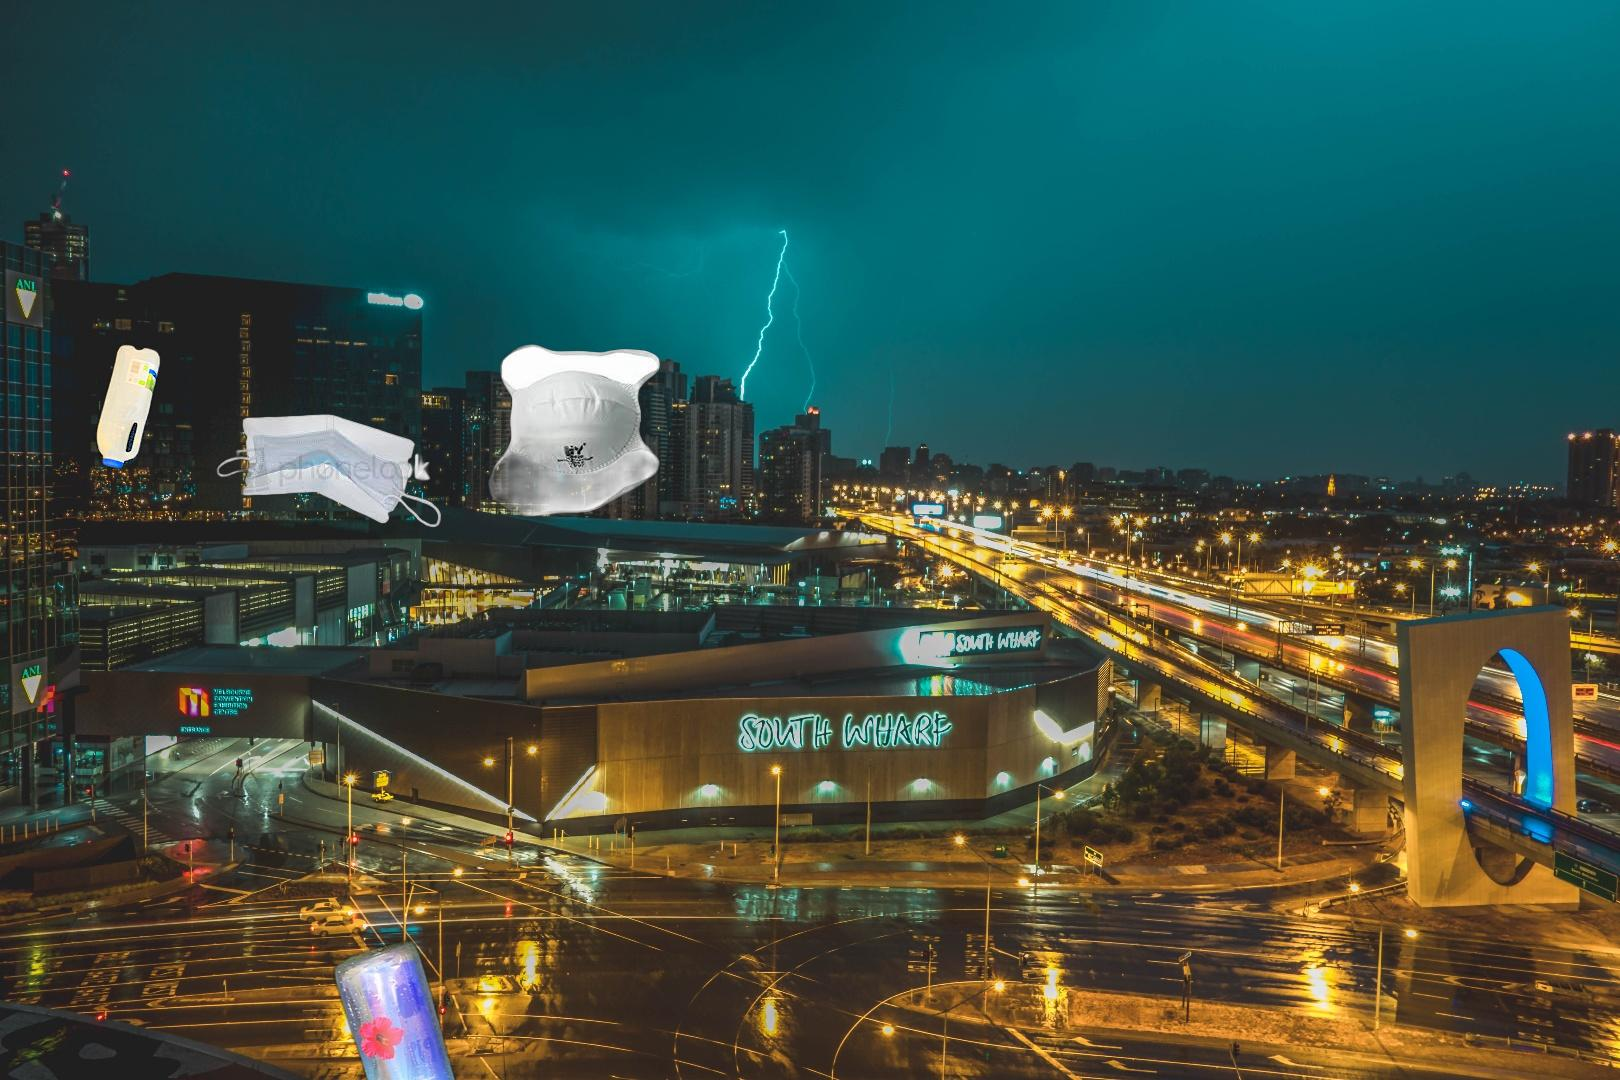plastic-bottles: (153, 934, 470, 1080), (90, 337, 165, 485)
trash: (488, 342, 663, 518), (216, 411, 441, 530)
